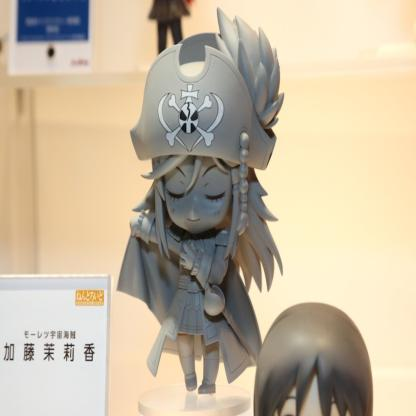Helmet: (133, 23, 272, 263)
